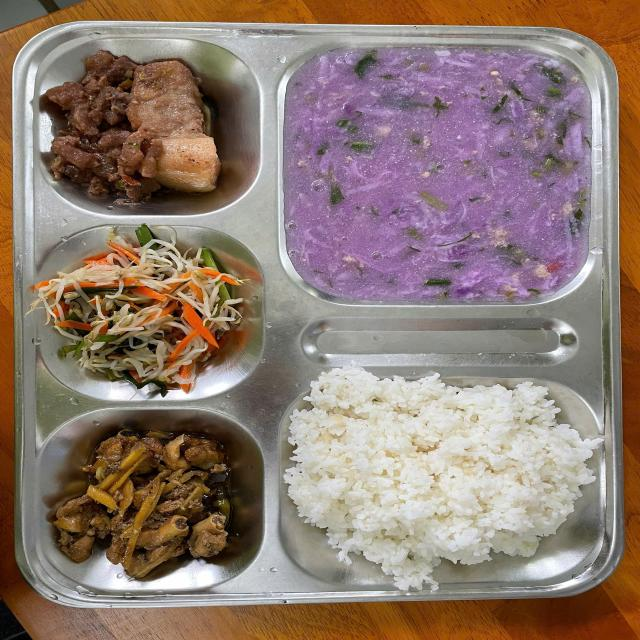canhkhoaimo: (287, 48, 589, 302)
giaxao: (40, 233, 249, 385)
salad: (292, 371, 584, 570)
teprim: (33, 54, 130, 197)
thitkhogung: (134, 59, 218, 194)
thitkhotrung: (48, 422, 238, 578)
